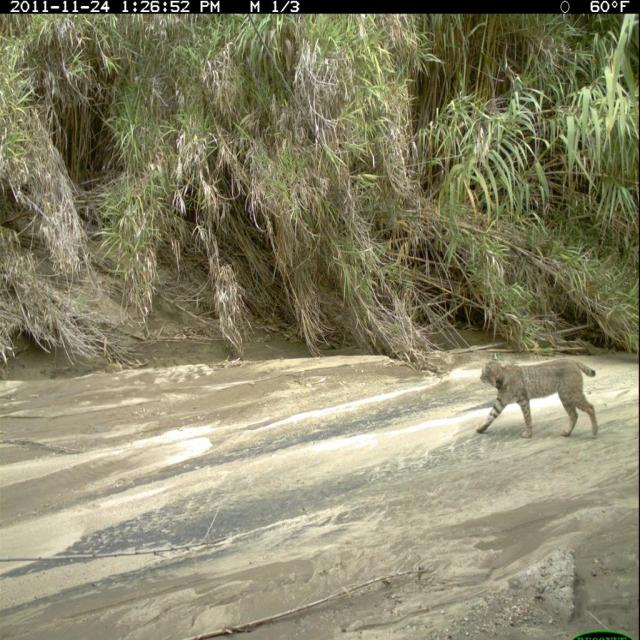bobcat: (477, 349, 604, 446)
